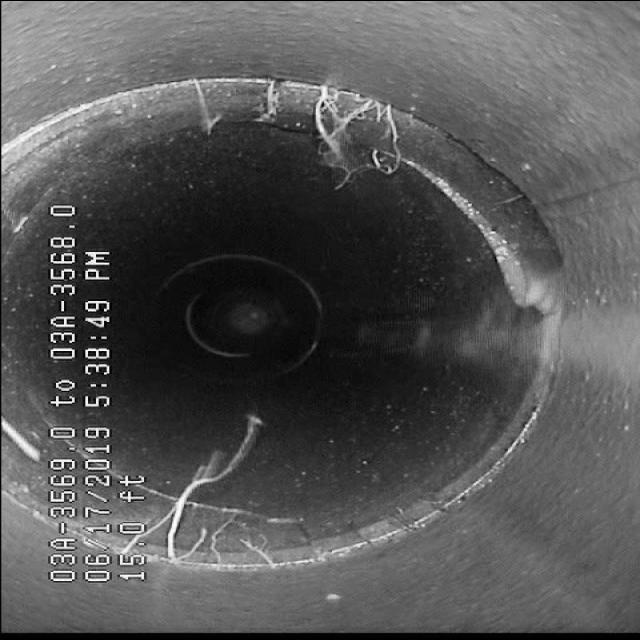Fracture: (253, 99, 557, 243), (149, 462, 335, 530)
